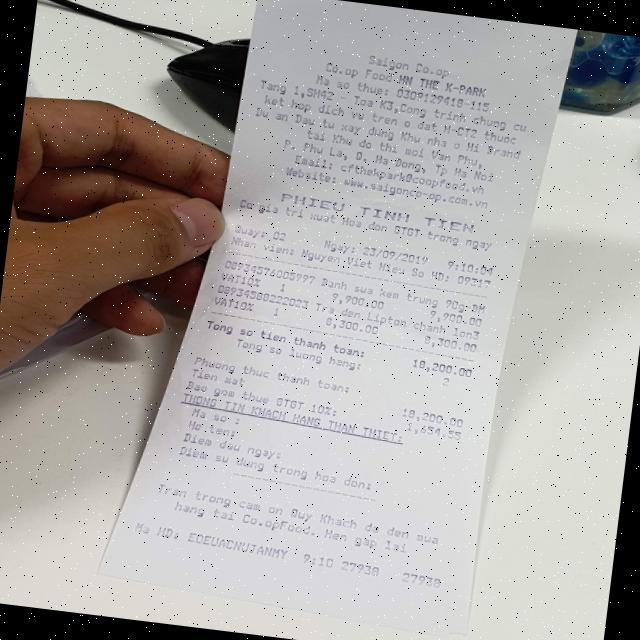Date: (361, 242, 430, 266)
Store_Name: (363, 50, 454, 80)
amount_number: (408, 352, 474, 379)
label_total: (202, 315, 361, 358)
